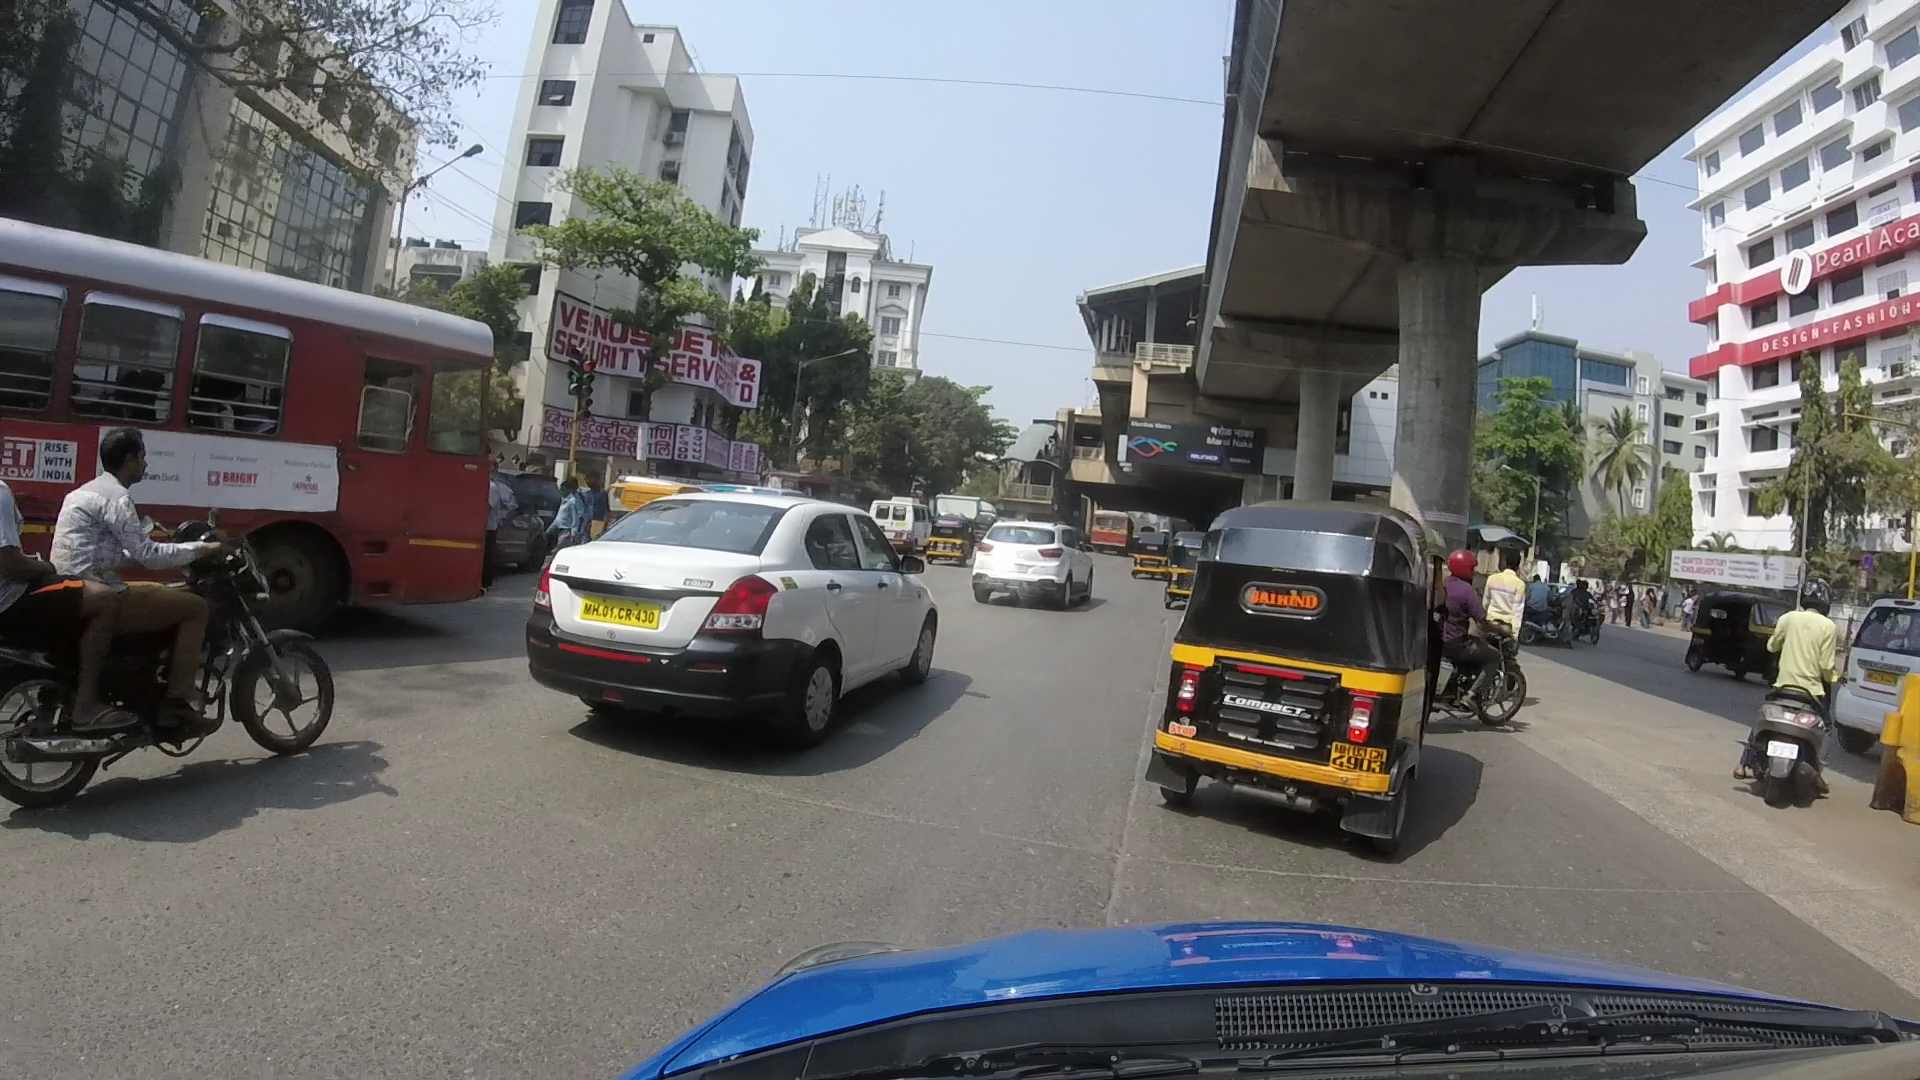bike/scooter: (1, 419, 345, 840), (1716, 568, 1859, 819), (1427, 545, 1548, 719)
bus: (7, 219, 512, 618)
car: (506, 463, 953, 748), (945, 495, 1106, 637)
rickshaw: (1135, 469, 1439, 845), (1679, 574, 1818, 691)
